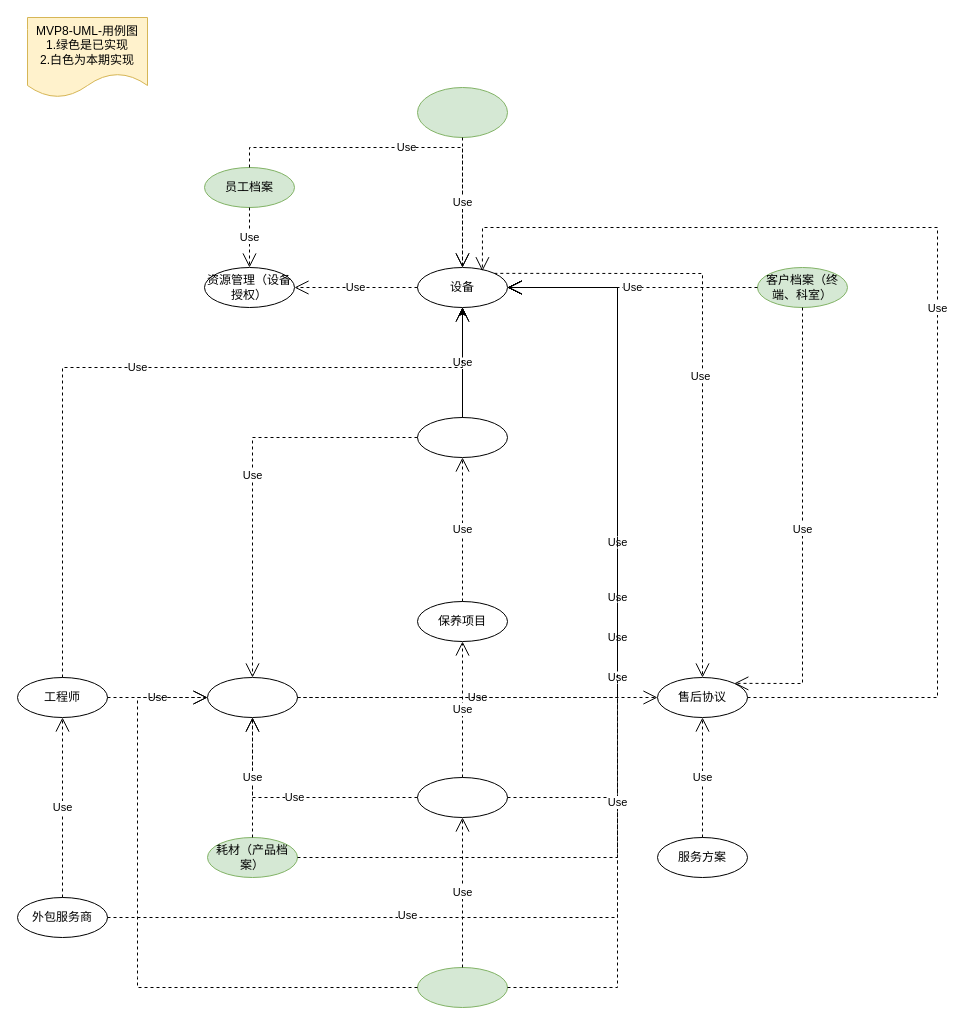
The diagram is 969 pixels wide and 1025 high, and some of its shapes have lost their labels. The shapes that lost their labels are listed below. From the top down, each one's box as (x1, y1, x2, y2) in pixels, then its label:
(416, 86, 508, 138): 生产厂家
(416, 416, 508, 458): 保养方案
(206, 676, 298, 718): 设备型号
(416, 776, 508, 818): 配件
(416, 966, 508, 1008): 品牌
